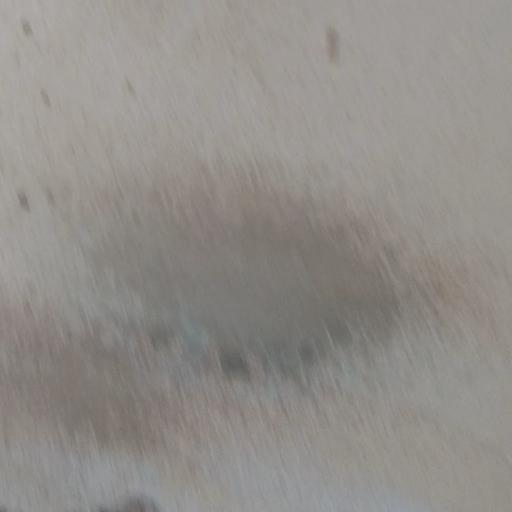stain: (5, 129, 436, 479), (0, 11, 154, 112), (307, 23, 351, 76)
